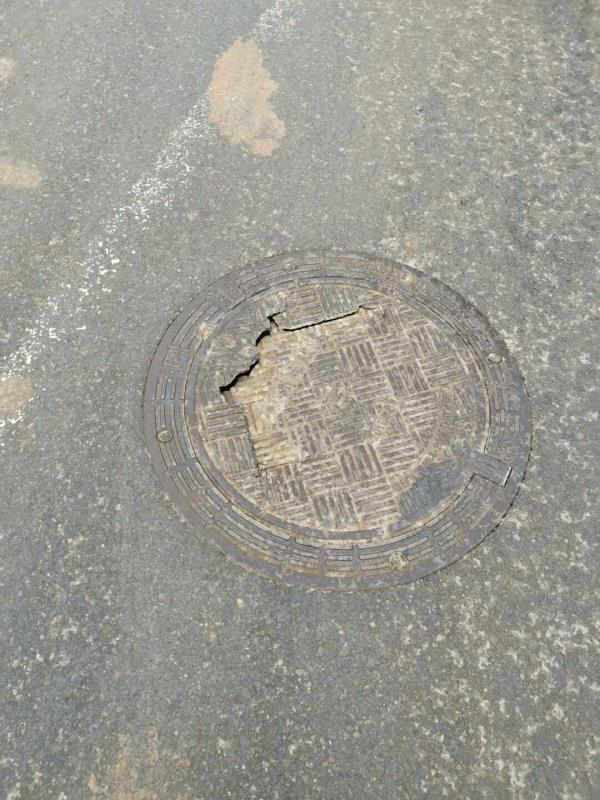wellcover: (129, 232, 542, 592)
